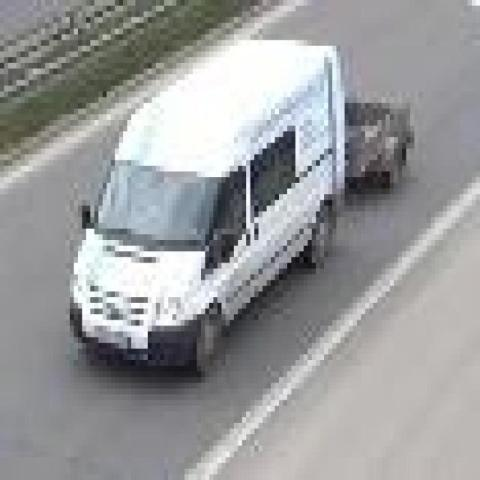van: (70, 40, 345, 372)
